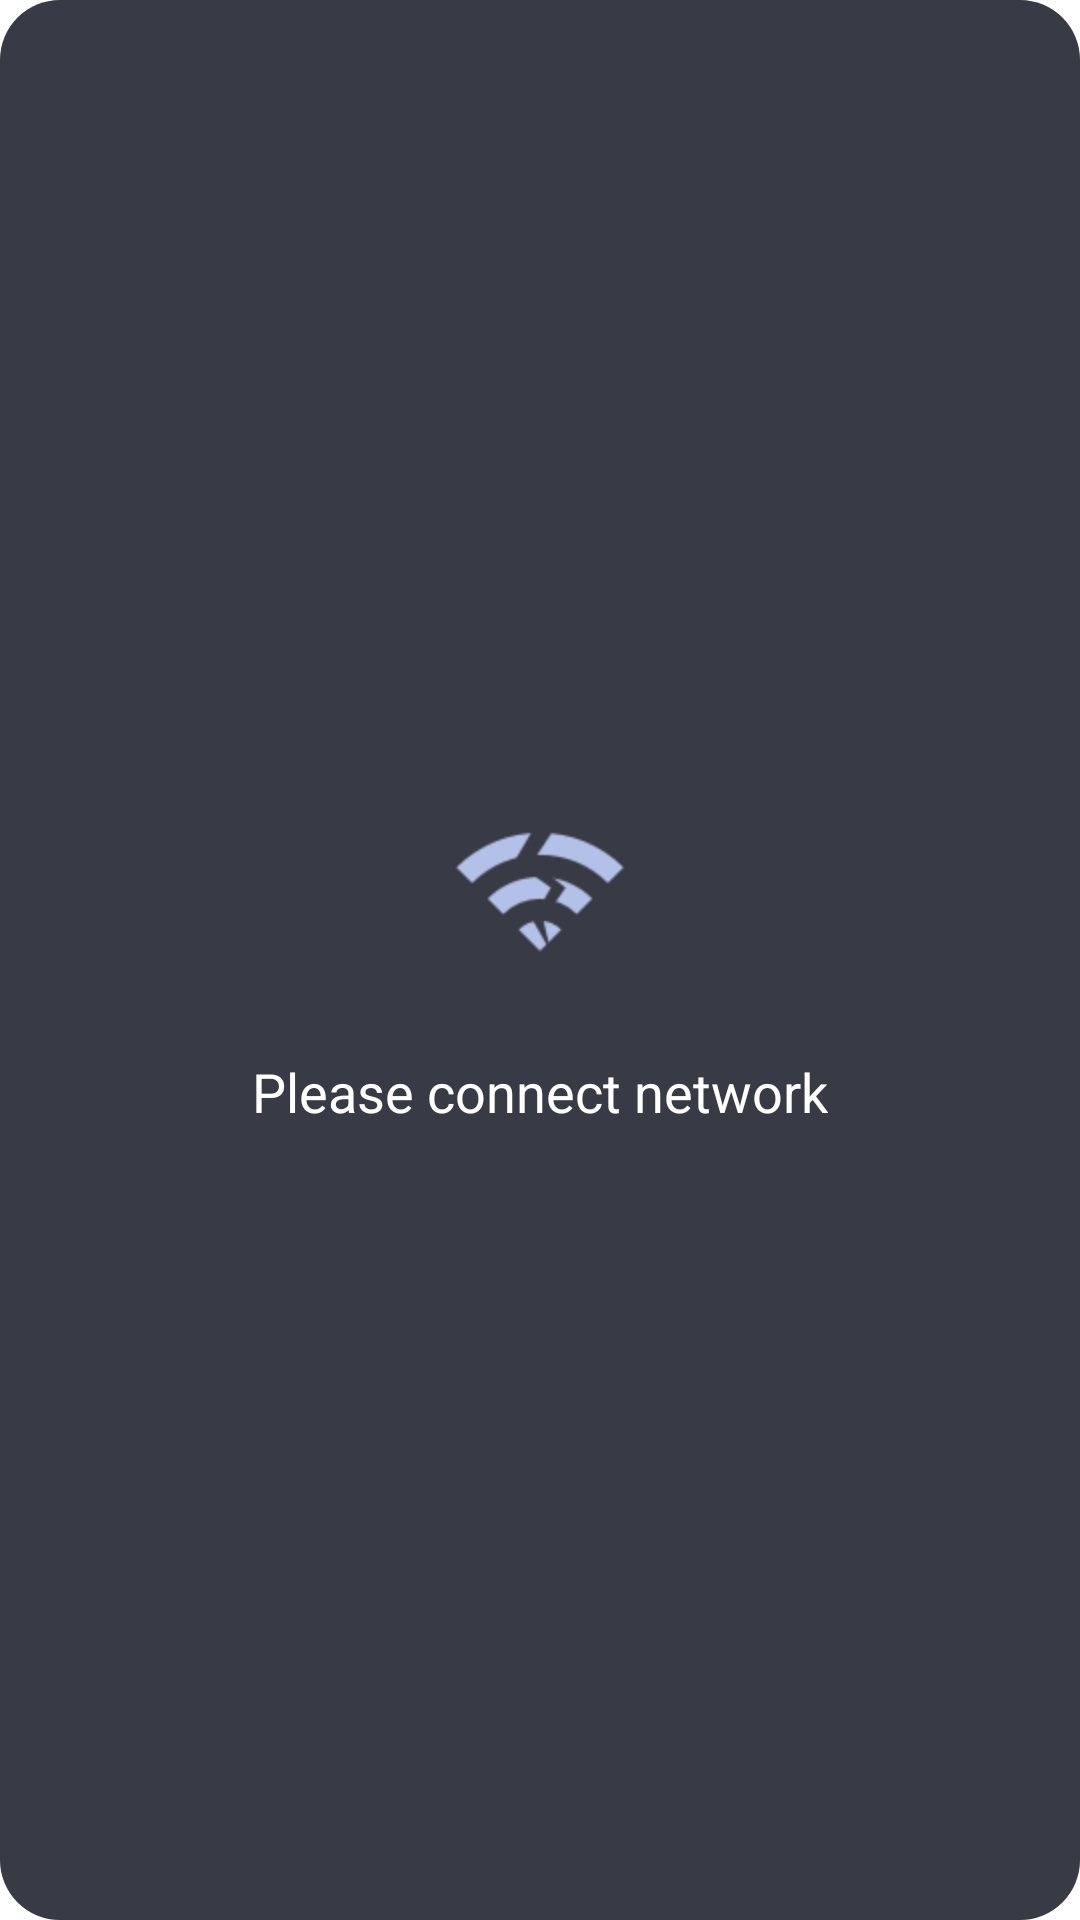

Locate icon controls on the screen. Image size 1080×1920, boxes as (x1, y1, x2, y2).
network disconnect: (456, 832, 624, 951)
